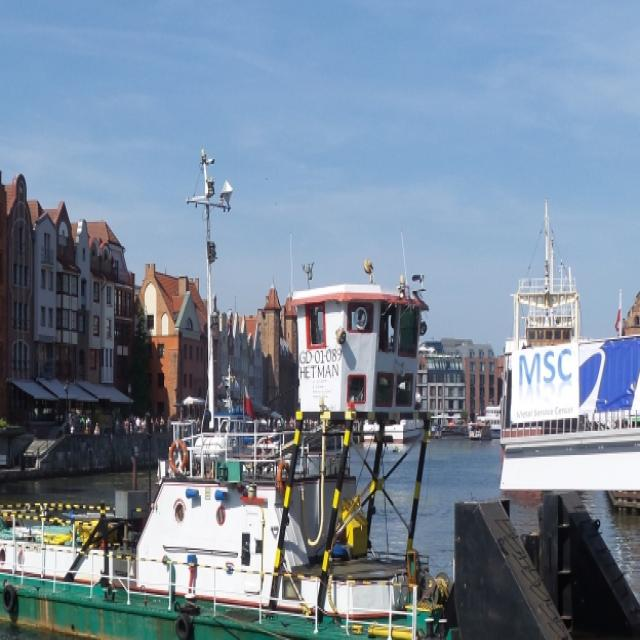tugboat: (1, 258, 559, 640)
